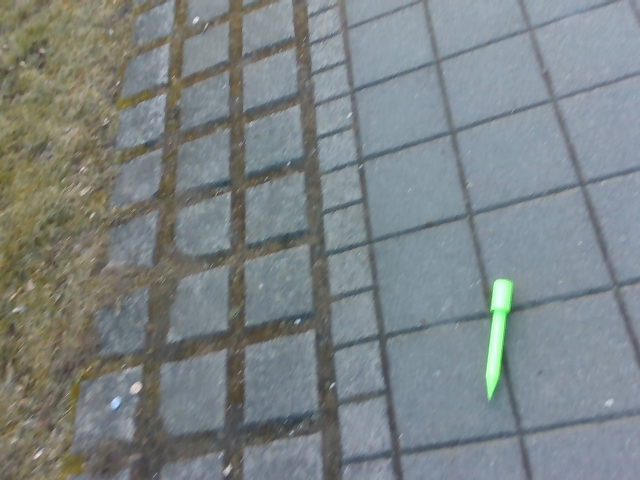Probe: (483, 271, 519, 405)
